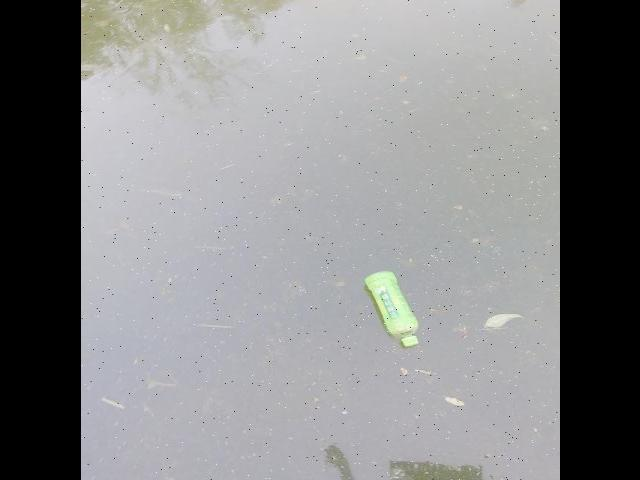Bottle: (357, 264, 421, 352)
